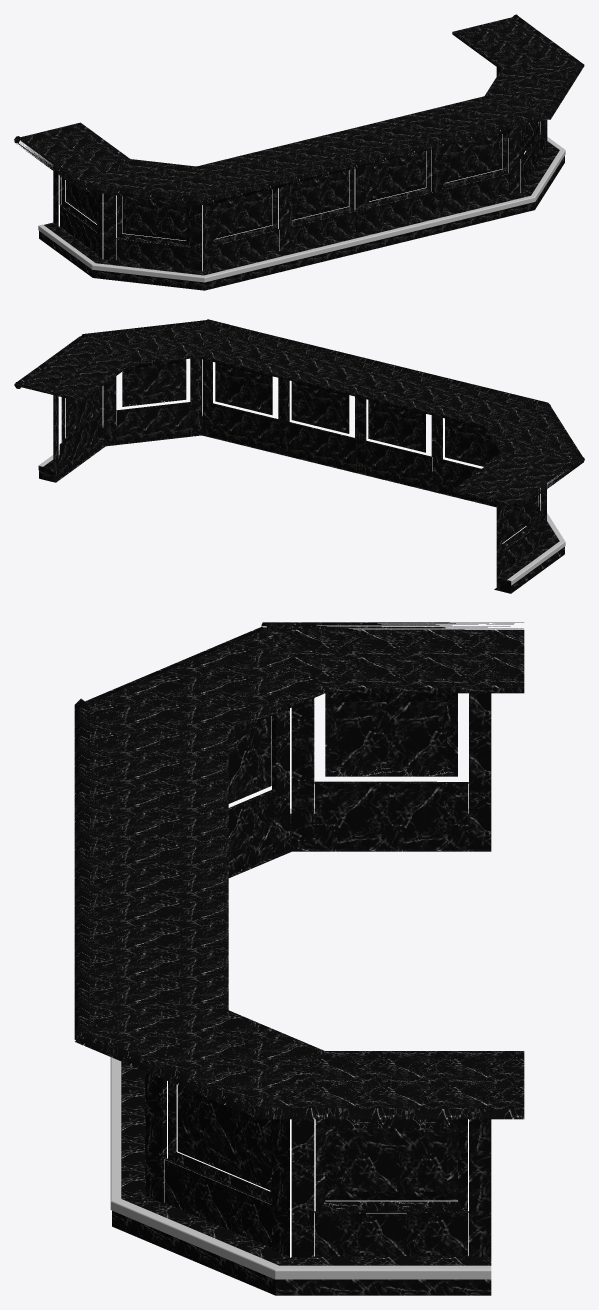
The model's file is bar_counter.fbx.
3 views of the same model, one above another, from view 1: azimuth 30°, elevation 25°; view 2: azimuth 150°, elevation 25°; view 3: azimuth 270°, elevation 25° (orthographic). The views are drawn at different scales.
Parts seen in each view (by area): view 1: Material2.002, Material2.001; view 2: Material2.002, Material2.001; view 3: Material2.002, Material2.001.
Boxes of the visible parts, left/top/right/bottom form: Material2.002: left=14, top=14, right=584, bottom=290; Material2.001: left=38, top=132, right=565, bottom=282; Material2.002: left=14, top=319, right=584, bottom=593; Material2.001: left=38, top=413, right=565, bottom=585; Material2.002: left=74, top=622, right=524, bottom=1295; Material2.001: left=110, top=808, right=491, bottom=1279.
Bounding box in the file's own units: 21102 × 4003 × 8134.
